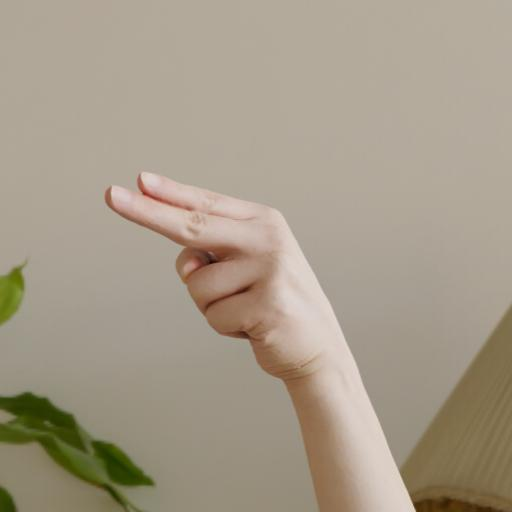H: (82, 157, 379, 412)
